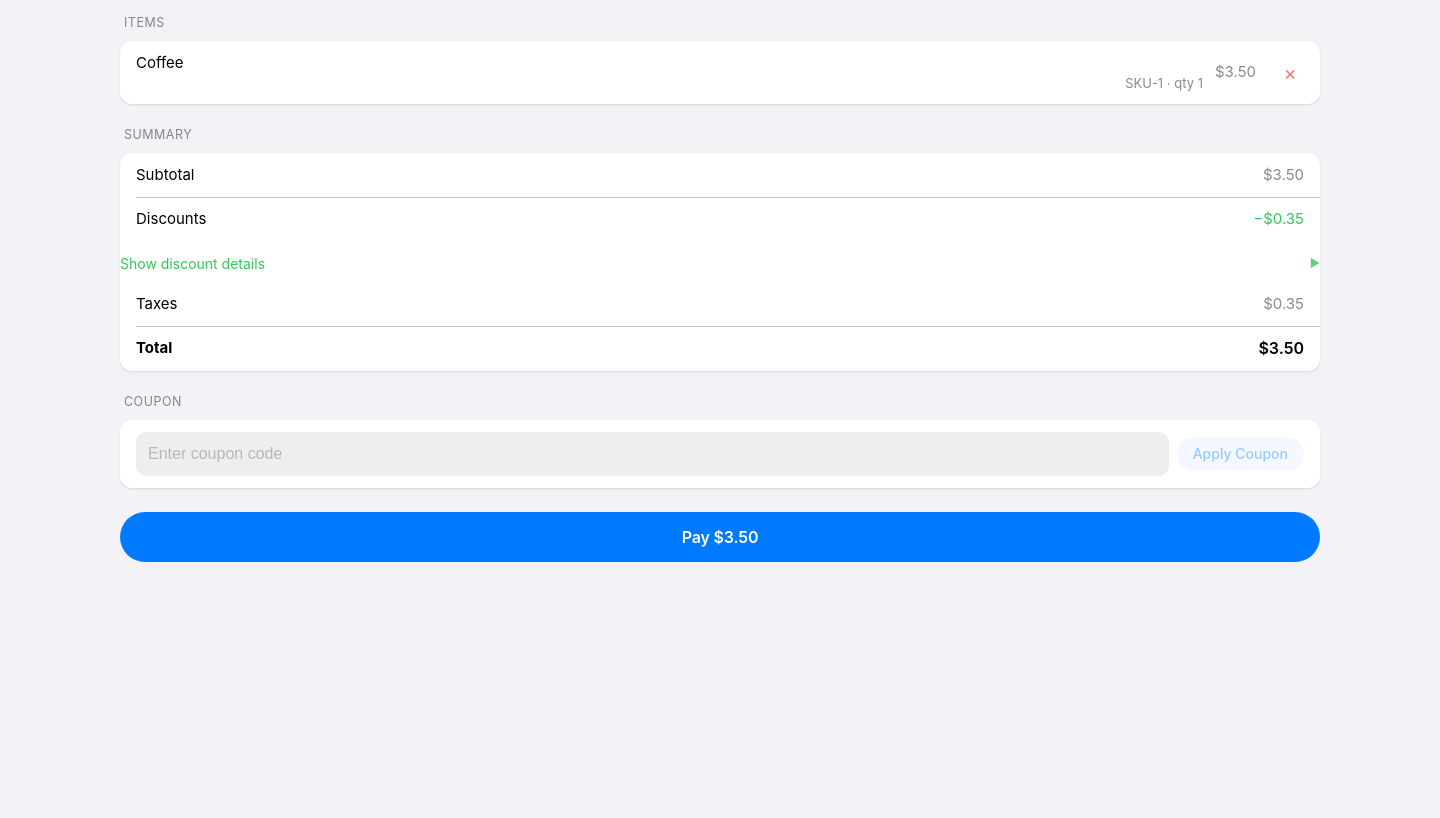
Test case: CartPanel coupon apply › shows discount totals even when source arrays are empty
The image size is (1440, 818).
Click the button "Show discount details ▶" at x=138, y=264, box [120, 245, 1320, 282]
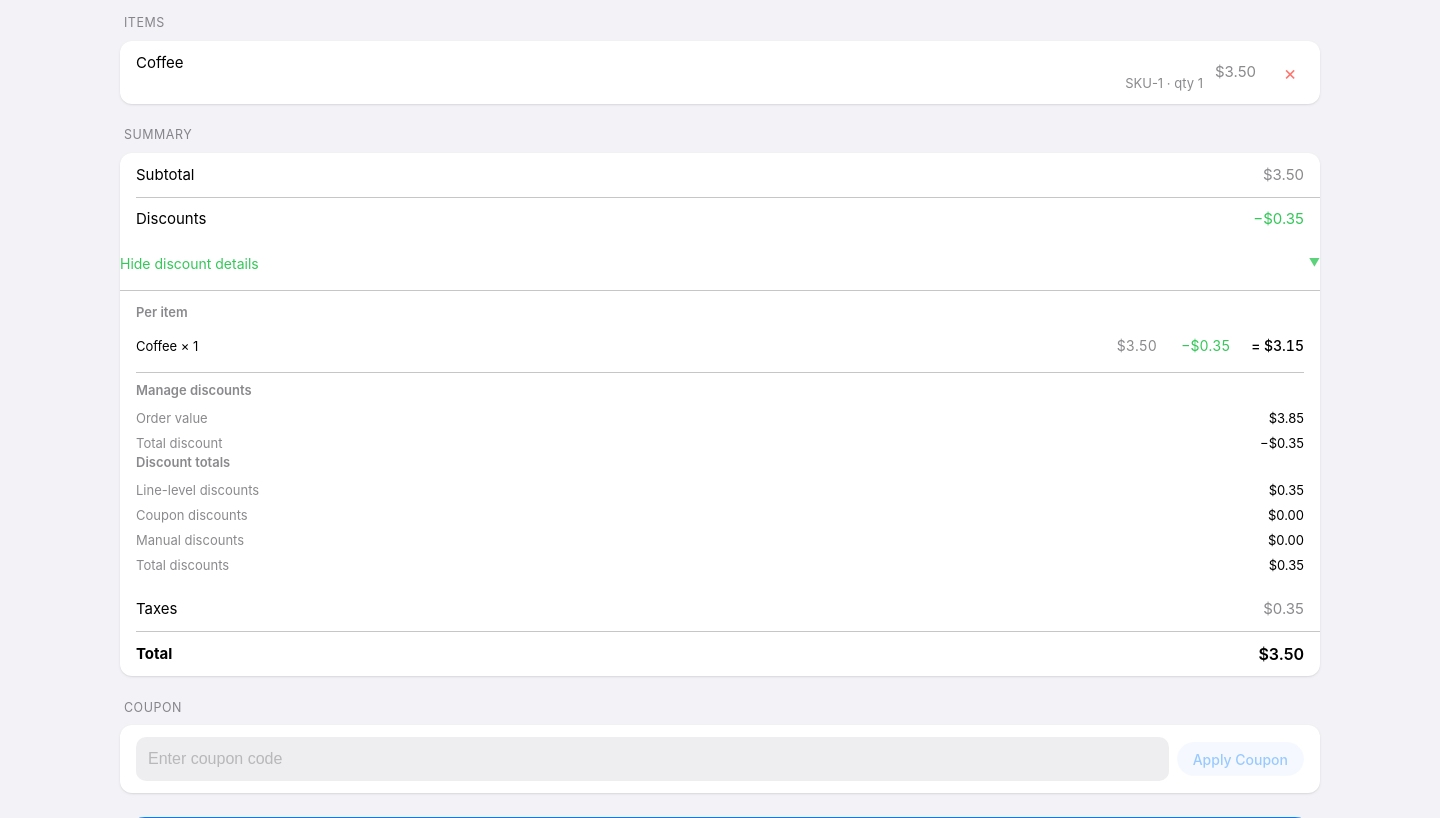
Result: the text "Discount totals" is shown at [136, 454, 230, 470]
